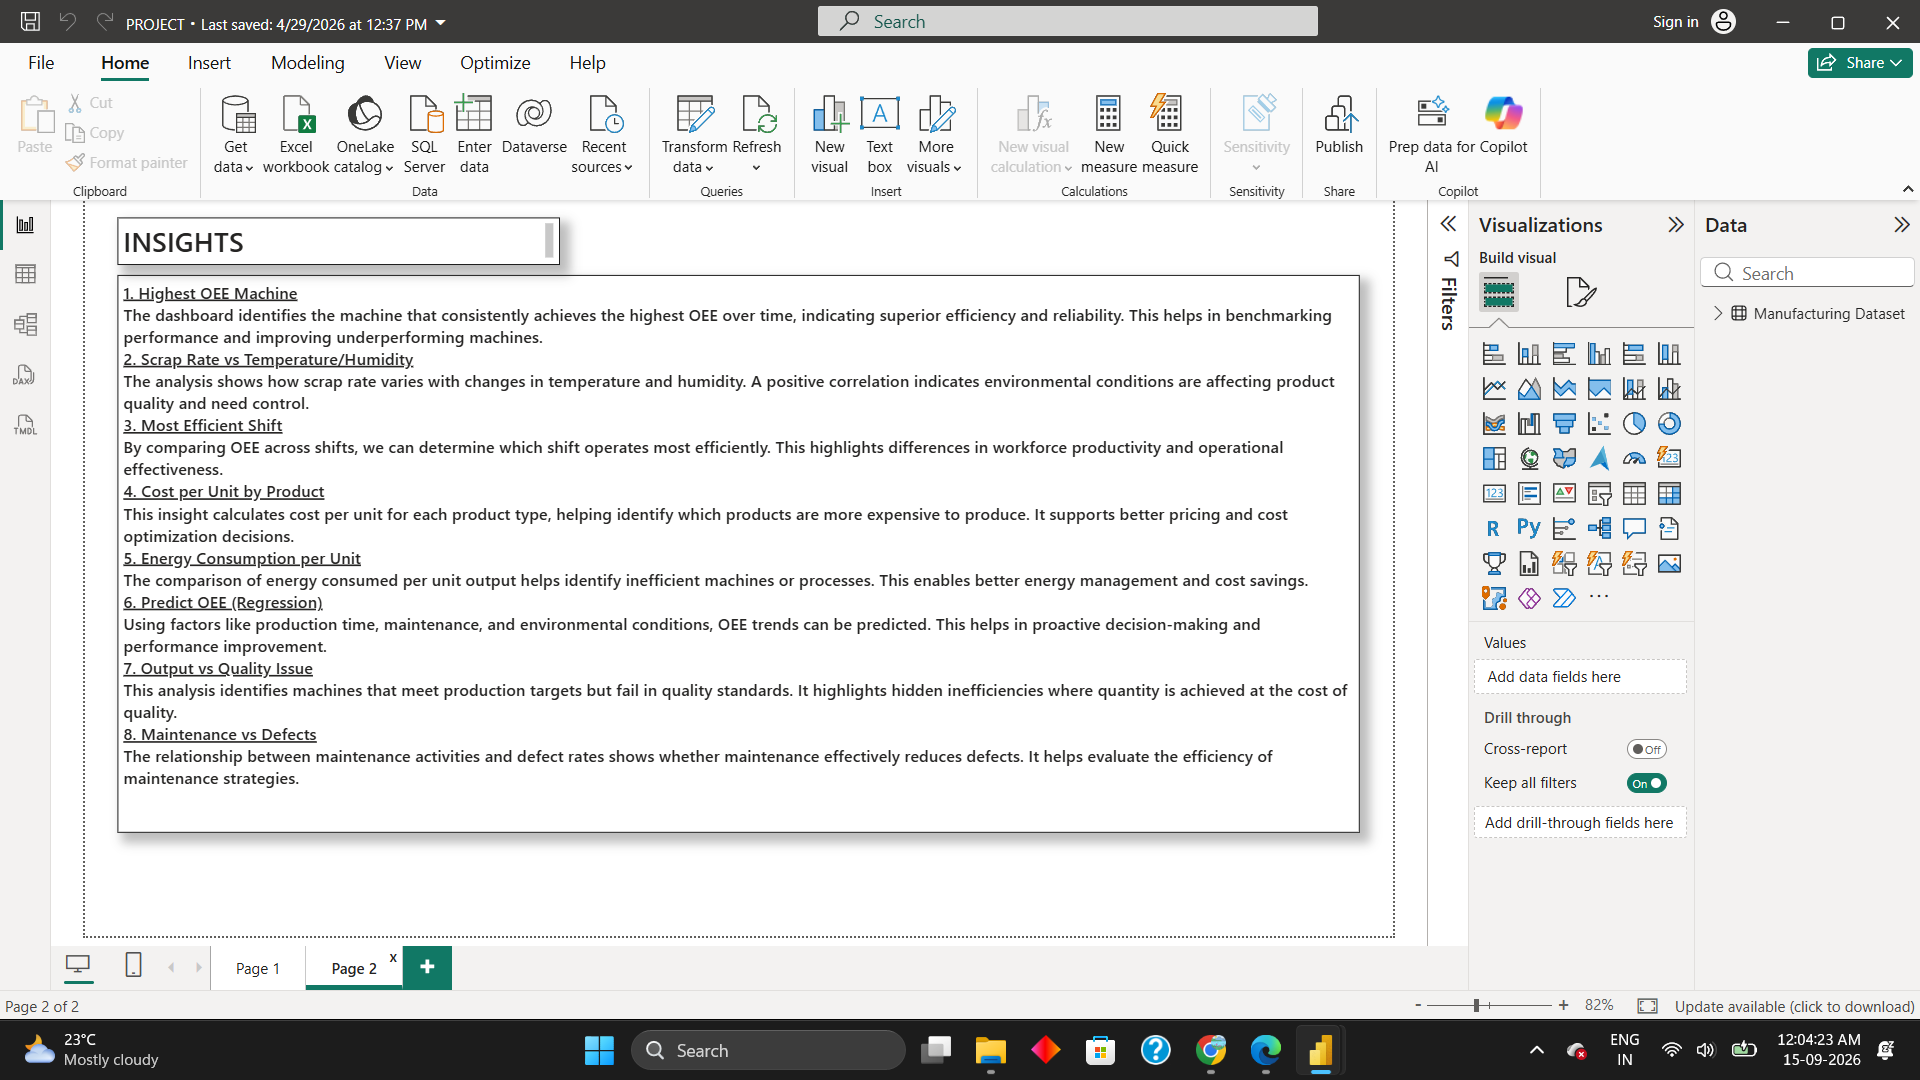

Layout of this report page (visuals, bound fields, positions):
{"tool":"powerbi","page":{"name":"Page 2","canvas":[1280,720],"ordinal":1},"visuals":[{"type":"textbox","box":[31.8,73.4,1215.5,545.4],"z":0},{"type":"textbox","box":[31.8,17.1,432.9,46.5],"z":1000}]}

Visuals, with their boxes on the page's 1280x720 design canvas (x1, y1, x2, y2). These are canvas units, not pixel positions in the 1920x1080 screenshot, which may show the page scaled, cropped or inside an application window:
textbox: [left=32, top=73, right=1247, bottom=619]
textbox: [left=32, top=17, right=465, bottom=64]
